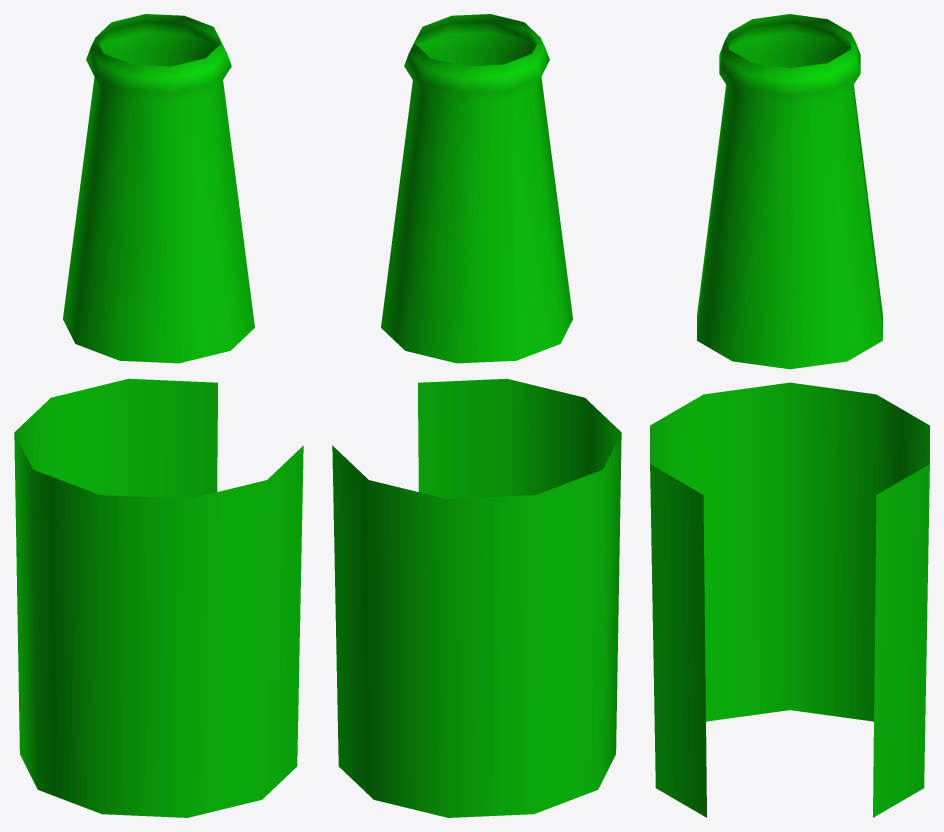
File: Bottle_Import_Label_01.fbx
3 views of the same model, side by side, from view 1: azimuth 30°, elevation 25°; view 2: azimuth 150°, elevation 25°; view 3: azimuth 270°, elevation 25° (orthographic).
Visible parts, largest first — view 1: Bottle_Import_Label_01; view 2: Bottle_Import_Label_01; view 3: Bottle_Import_Label_01.
Part boxes in pixels (<box>): Bottle_Import_Label_01: <box>14,14,303,817</box>; Bottle_Import_Label_01: <box>332,14,621,817</box>; Bottle_Import_Label_01: <box>650,14,929,817</box>.
Bounding box in the file's own units: 30.08 × 90.84 × 31.63.
